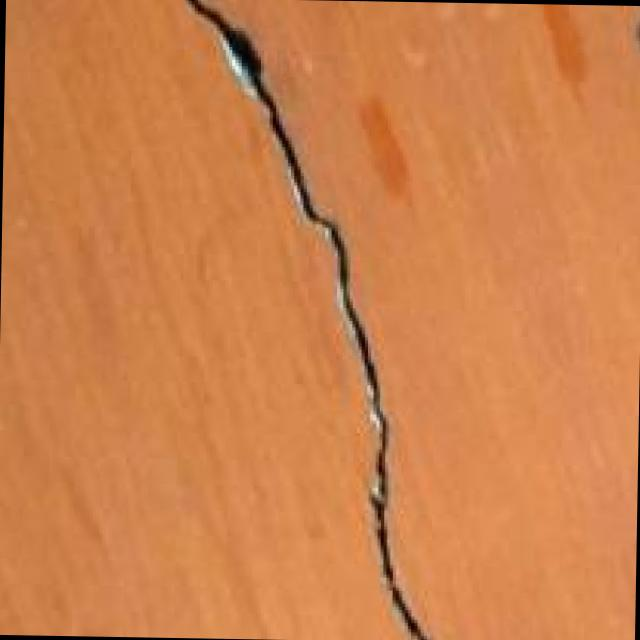crack: (164, 0, 454, 639)
